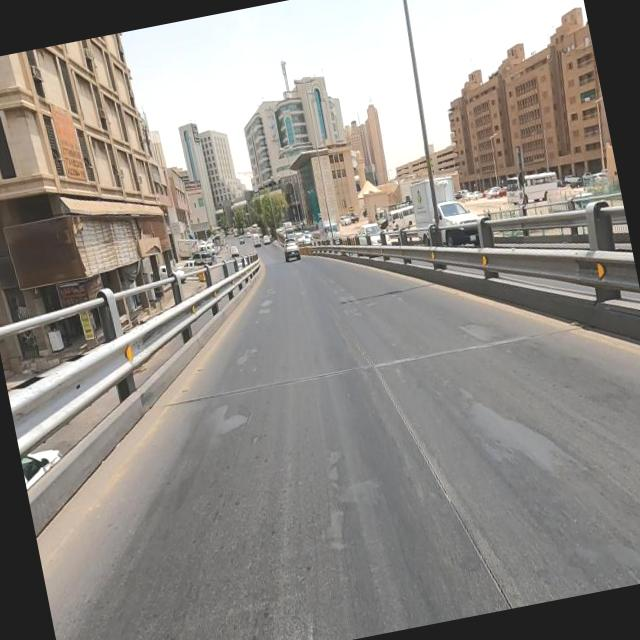debris: (0, 165, 135, 322), (18, 64, 124, 232), (48, 182, 183, 308), (120, 198, 199, 282)
